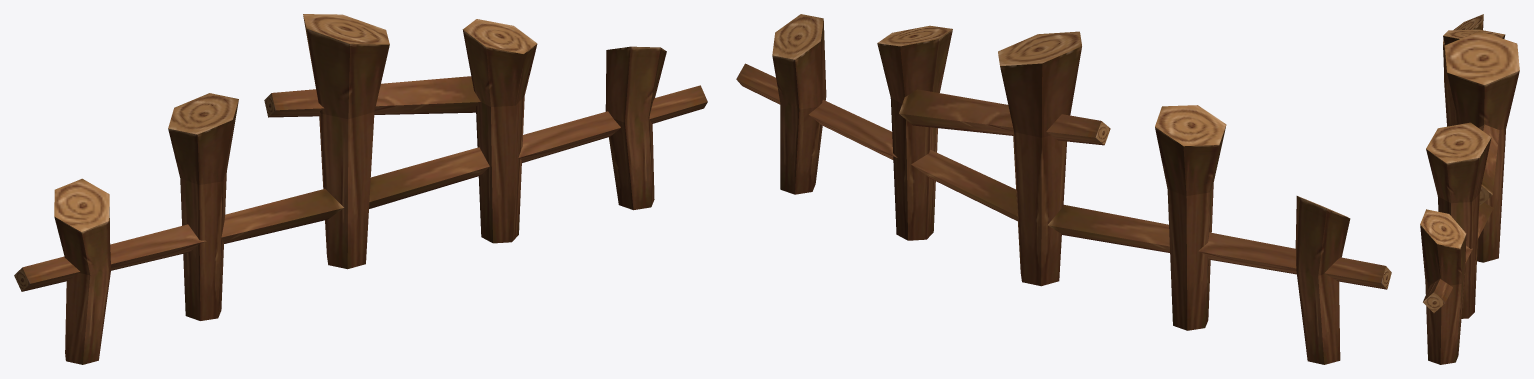
Rendered from cunlou_xiaowujian07 (2).FBX.
3 renders of one model, left to right at view 1: azimuth 30°, elevation 25°; view 2: azimuth 150°, elevation 25°; view 3: azimuth 270°, elevation 25°, orthographic. The views are drawn at different scales.
Visible parts, largest first — view 1: cunlou_xiaowujian07; view 2: cunlou_xiaowujian07; view 3: cunlou_xiaowujian07.
Part boxes in pixels (<box>): cunlou_xiaowujian07: <box>14,14,707,364</box>; cunlou_xiaowujian07: <box>736,14,1391,364</box>; cunlou_xiaowujian07: <box>1420,14,1519,364</box>.
Size of the model in its own units: 323 by 122 by 48.98.
